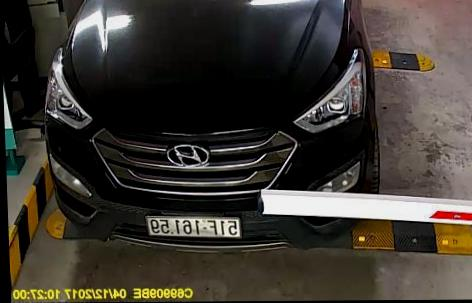License_Plate: (149, 213, 242, 243)
